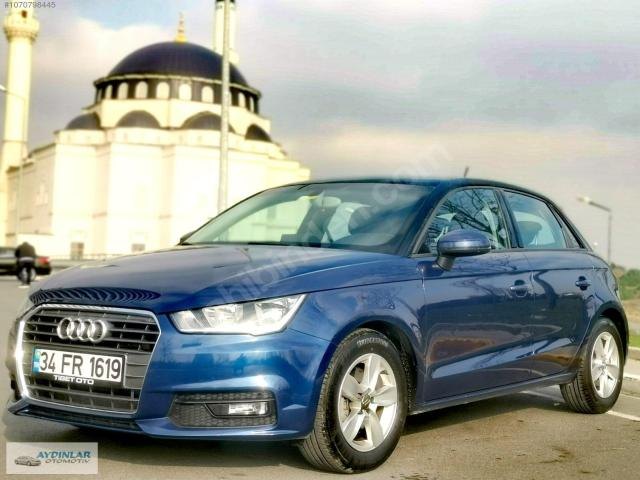plaka: (33, 348, 122, 385)
